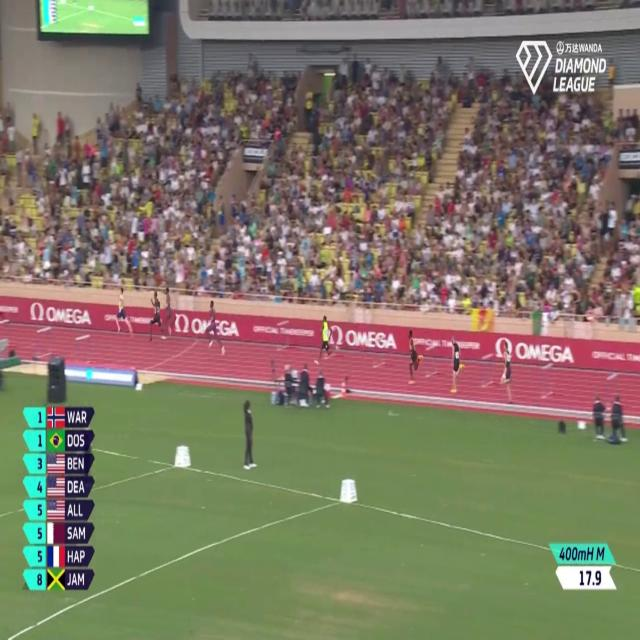athlete: (204, 297, 228, 355), (147, 282, 167, 350), (114, 286, 135, 348), (318, 311, 339, 369), (406, 322, 424, 388), (500, 337, 516, 404), (448, 331, 464, 398), (164, 280, 180, 342)
hurdle: (74, 330, 97, 371), (370, 337, 391, 381), (478, 345, 497, 393), (423, 337, 442, 384), (538, 357, 557, 403), (606, 367, 623, 413), (275, 317, 291, 363), (34, 322, 51, 365)
